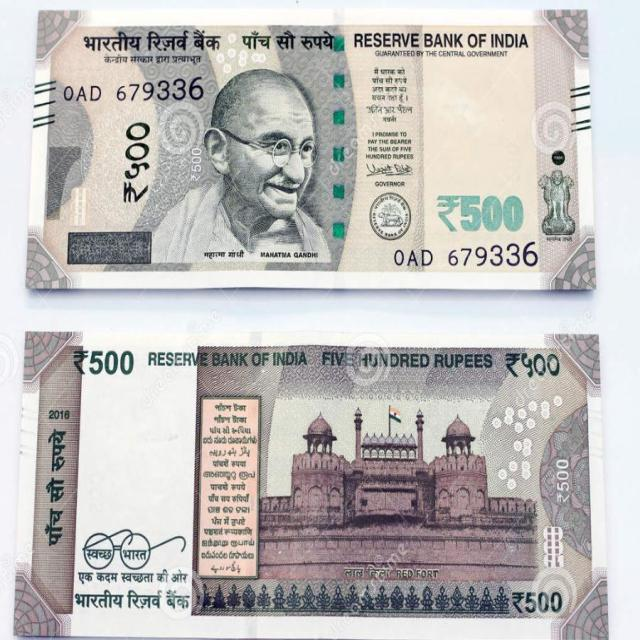500IndianRupees: (14, 330, 606, 640)
